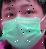with_mask: (1, 2, 46, 49)
